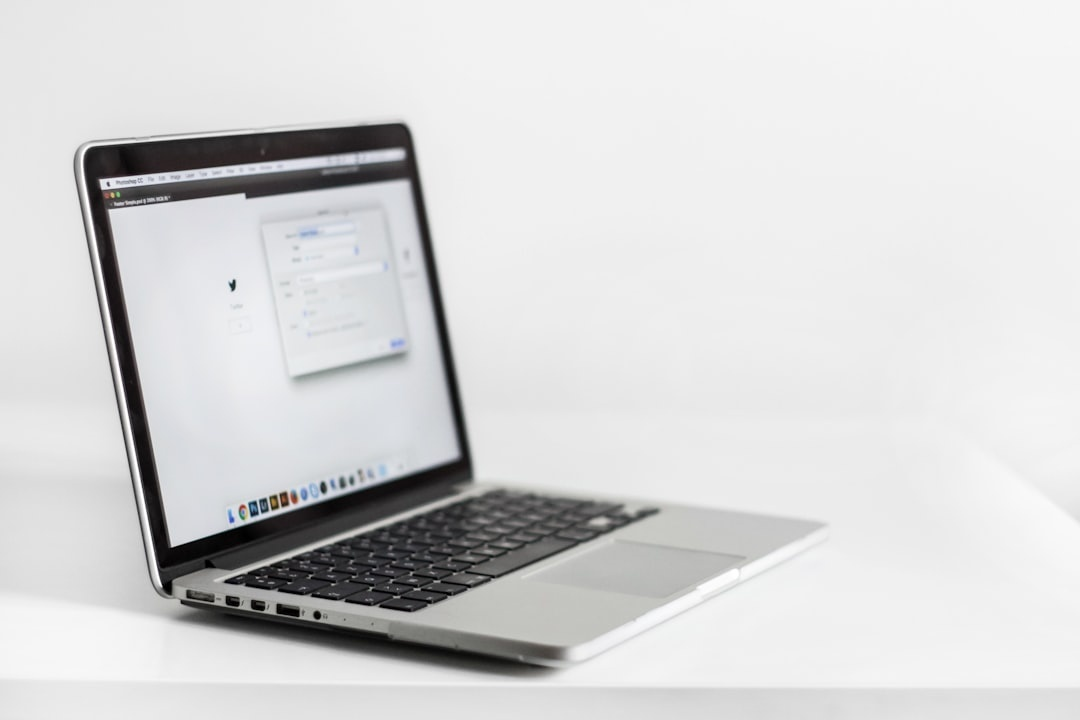laptop: (49, 94, 865, 673)
